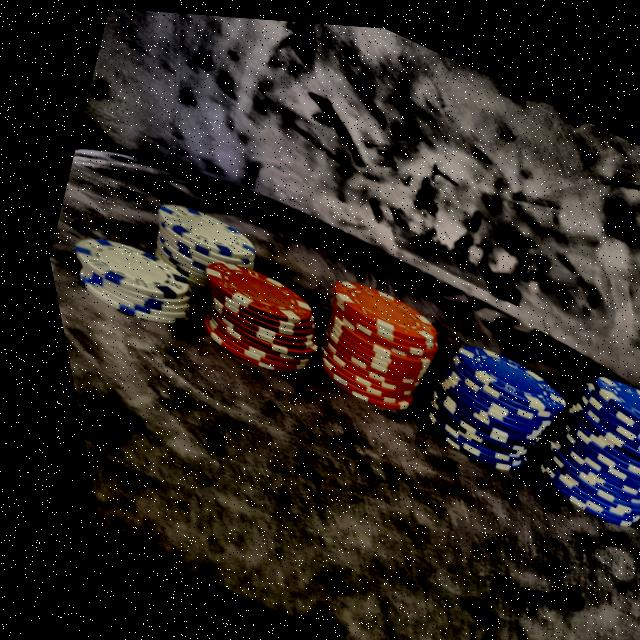Chip: (269, 243, 463, 436), (383, 307, 579, 494), (159, 230, 344, 399), (492, 339, 640, 546), (107, 171, 284, 337), (36, 200, 217, 358)
